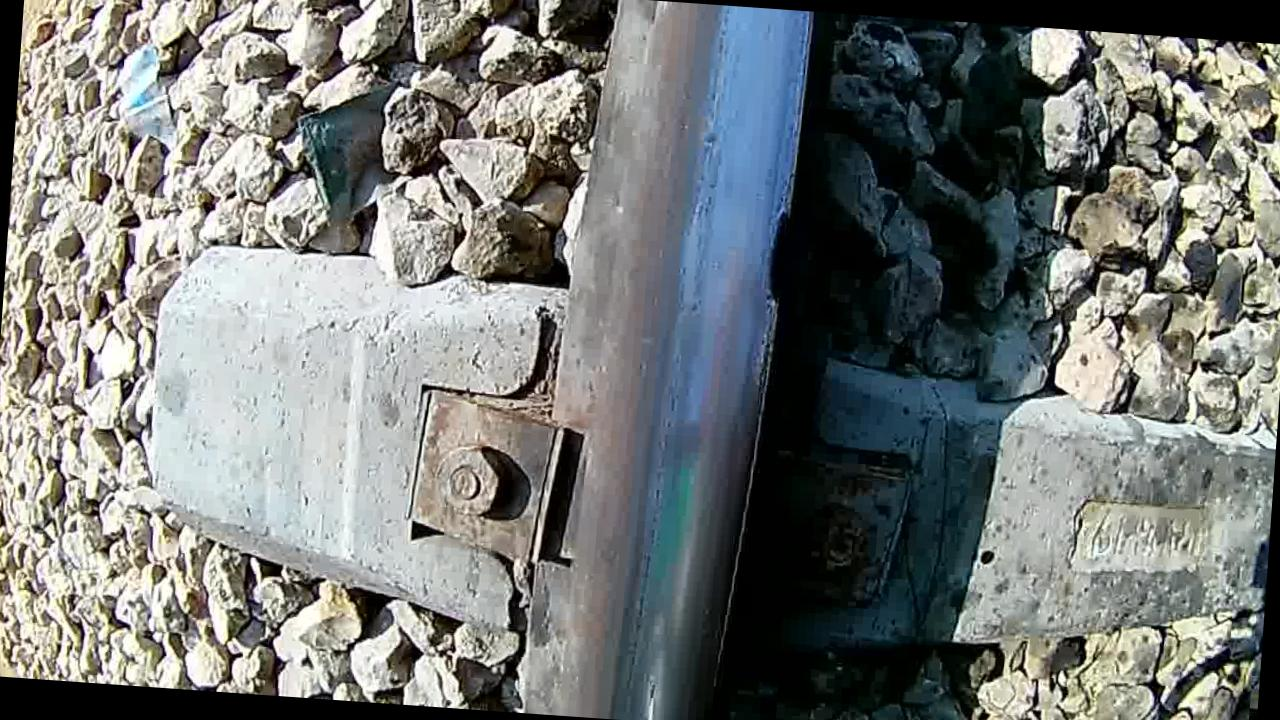crack: (725, 192, 795, 339)
